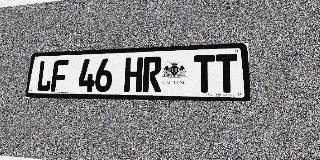4: (78, 59, 96, 92)
6: (94, 58, 113, 92)
F: (50, 60, 69, 92)
H: (124, 57, 143, 92)
L: (36, 60, 54, 92)
R: (142, 56, 162, 92)
T: (215, 54, 238, 93), (194, 55, 215, 93)
